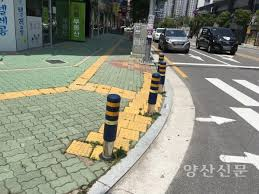guide_blocks: (69, 139, 128, 157), (74, 82, 134, 98), (2, 84, 66, 98), (87, 125, 146, 138), (130, 92, 163, 110), (114, 112, 151, 128), (140, 71, 162, 93), (78, 64, 100, 82)
